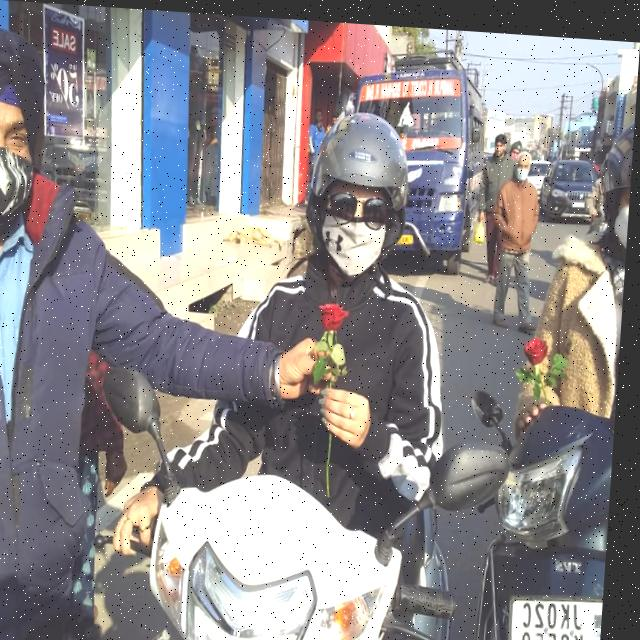plate: (503, 570, 612, 640), (574, 192, 589, 201)
